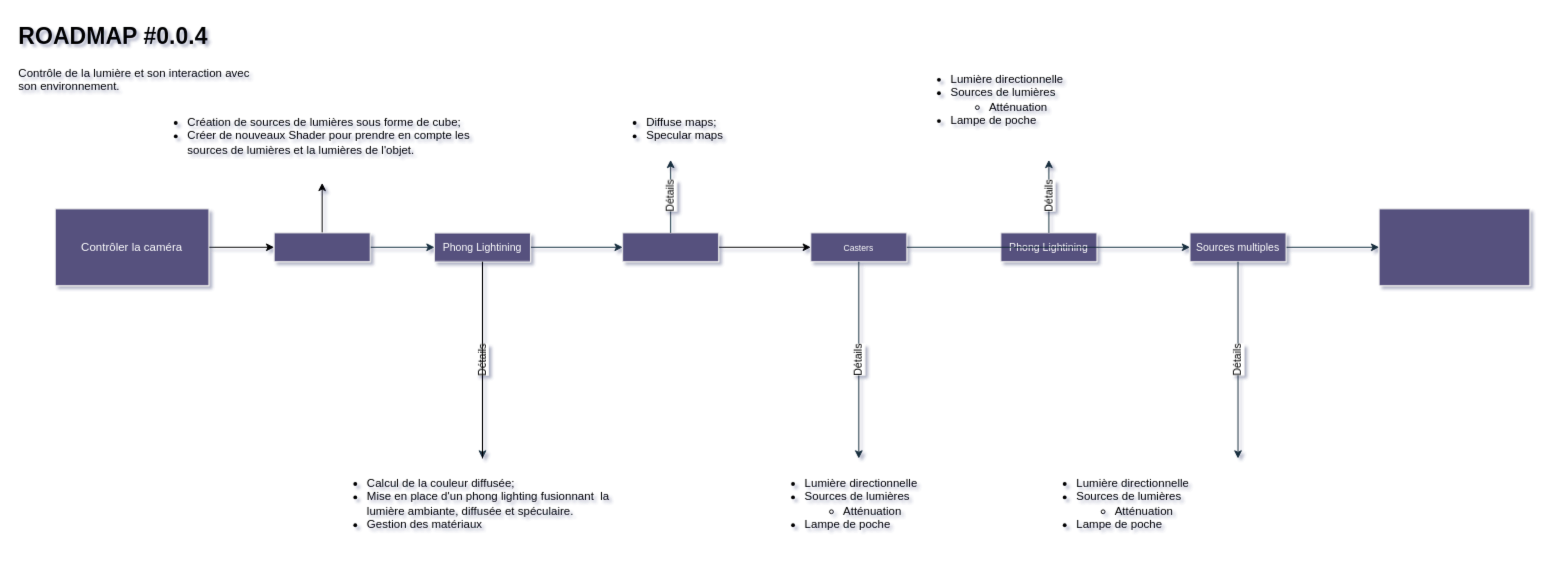
The diagram is 1552 pixels wide and 588 high, and some of its shapes have lost their labels. Here are the shapes that lost their labels. From the top down, the centre of each, then its label:
At (x=321, y=247): "Changements Shaders".
At (x=670, y=247): "Maps".
At (x=1454, y=247): "Contrôle de la lumière".
